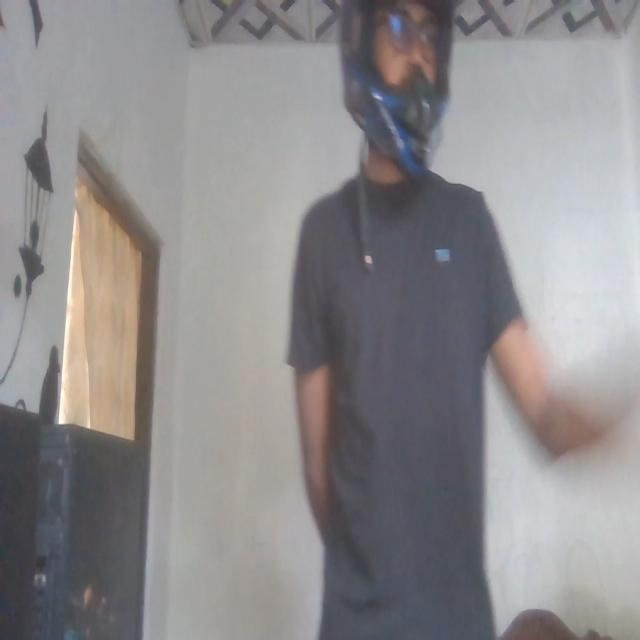Helmet_Wearer: (336, 0, 474, 163)
Person: (286, 14, 537, 640)
